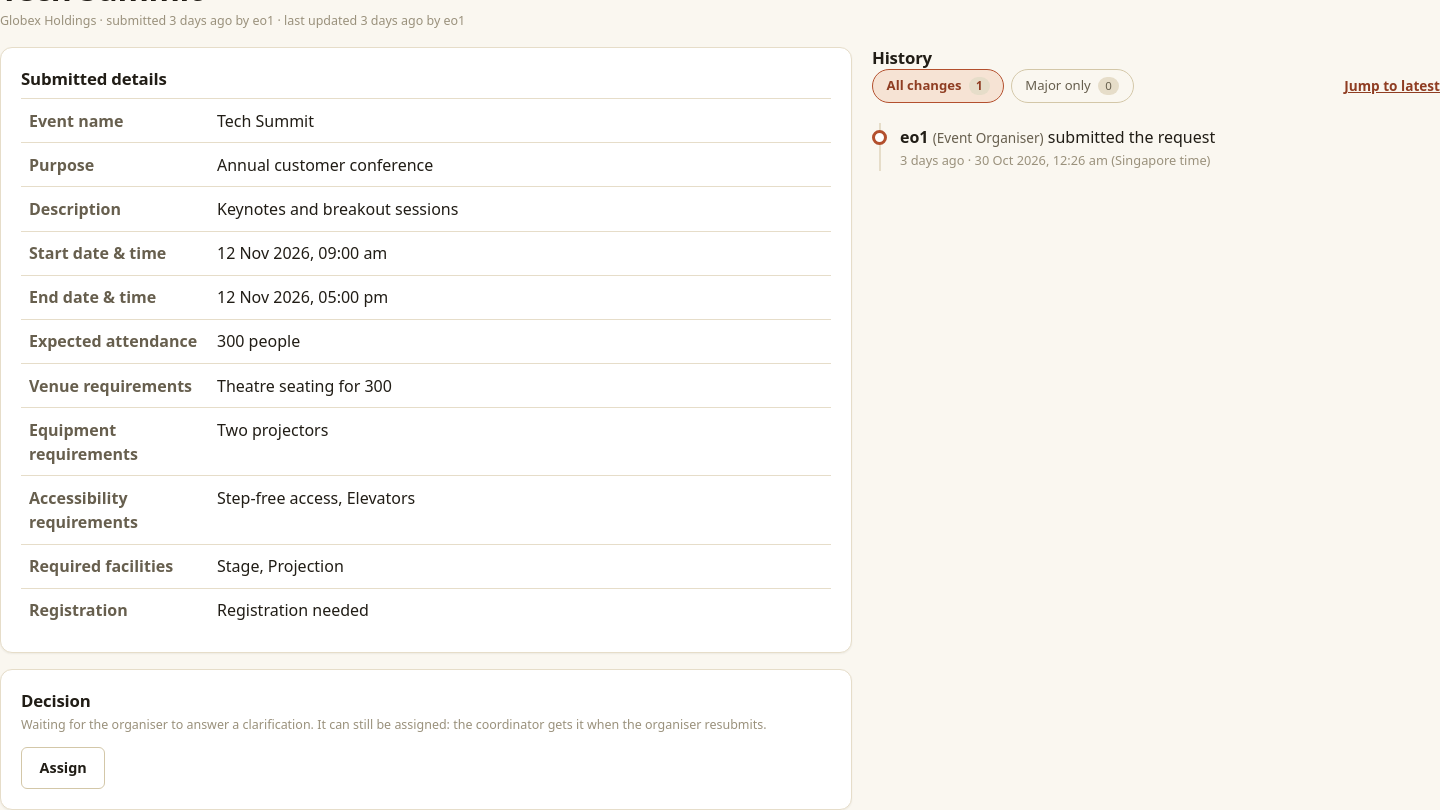
Test case: IncomingRequestReviewPage (ECL-C3 Lead review, ELC-C6 assignment, ELC-C5 reassignment) › a request waiting on the organiser can be assigned the same way
(page scrolled)
Click the button "Assign": [63, 768] box [21,746,105,789]
(page scrolled)
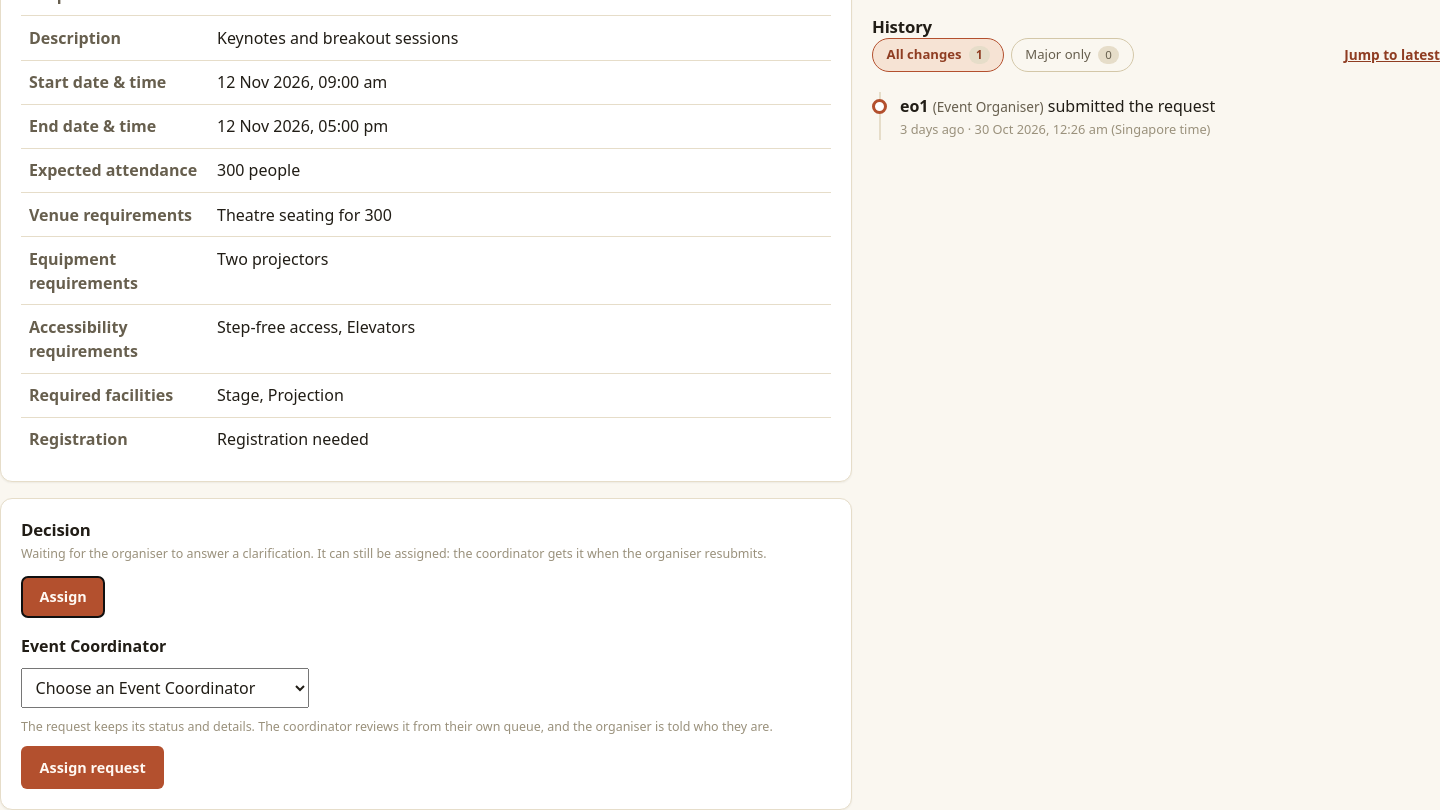
Select "ec3" in the dropdown labelled "Event Coordinator": [165, 688] box [21,668,309,708]
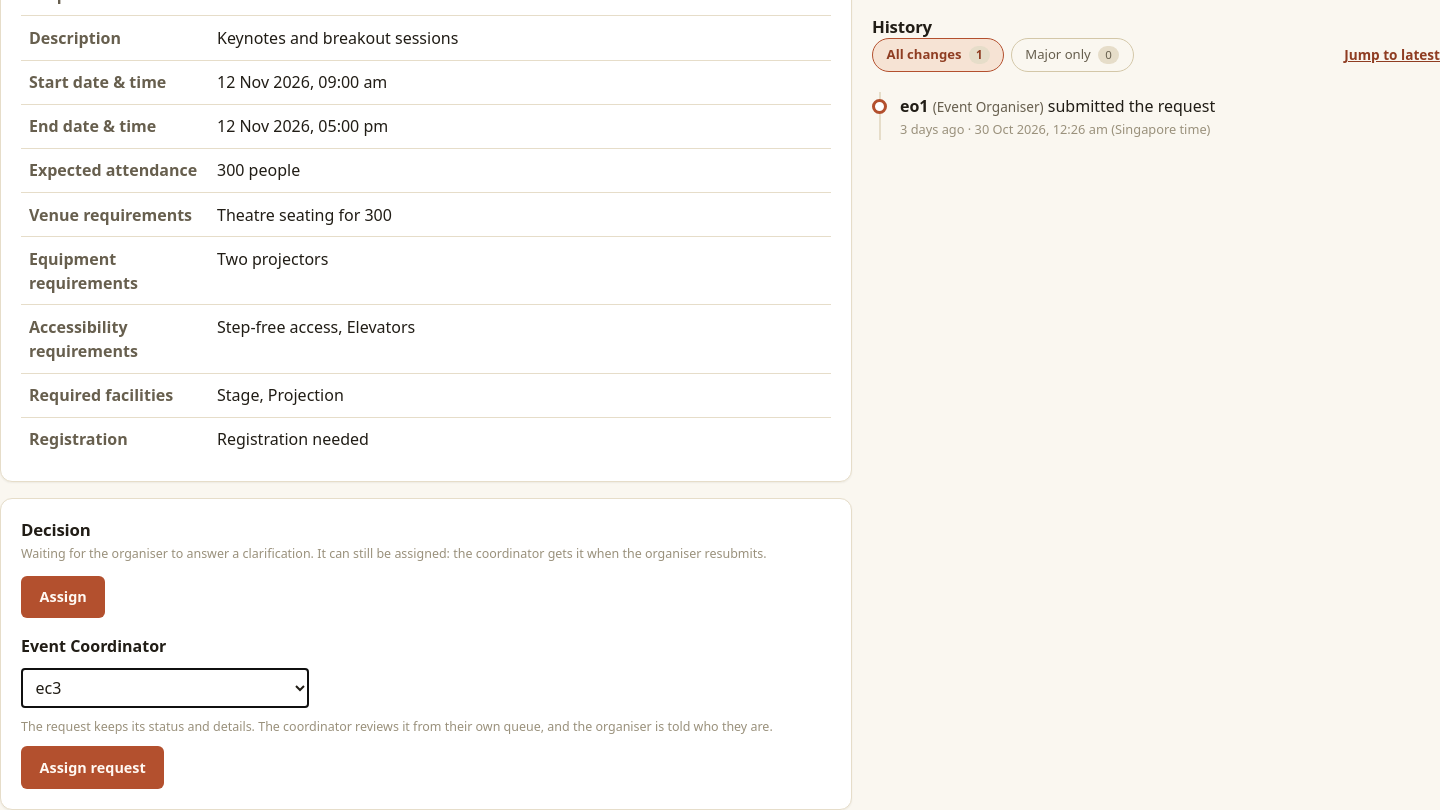
Click the button "Assign request": [93, 768] box [21,746,164,789]
(page scrolled)
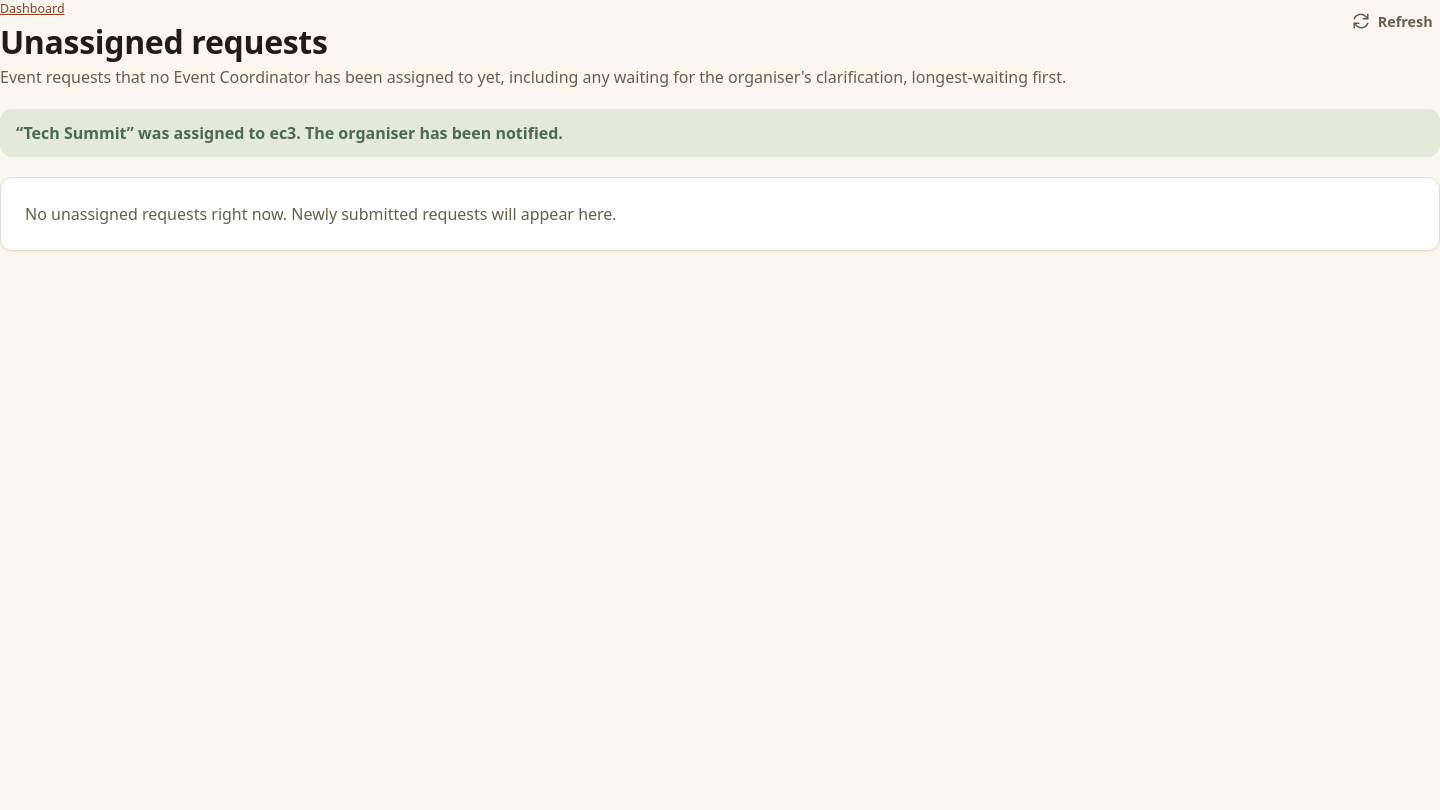
Expected: the text "“Tech Summit” was assigned to ec3. The organiser has been notified." is shown, [0,109,1439,157]
